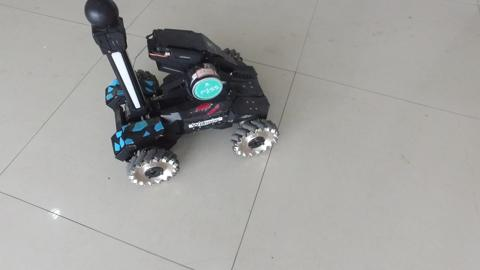chariot: (81, 17, 280, 174)
